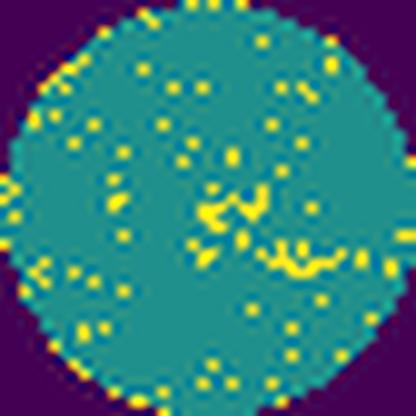Loc: (254, 237, 347, 282), (196, 184, 272, 233)
